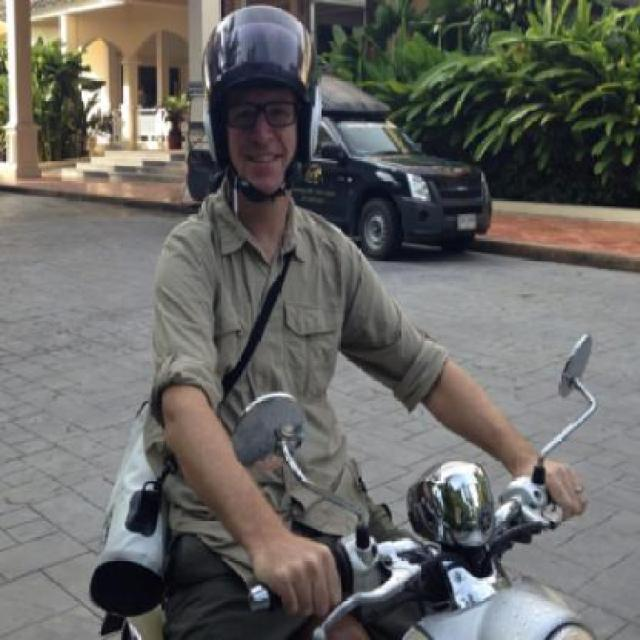5_casco: (200, 6, 339, 173)
